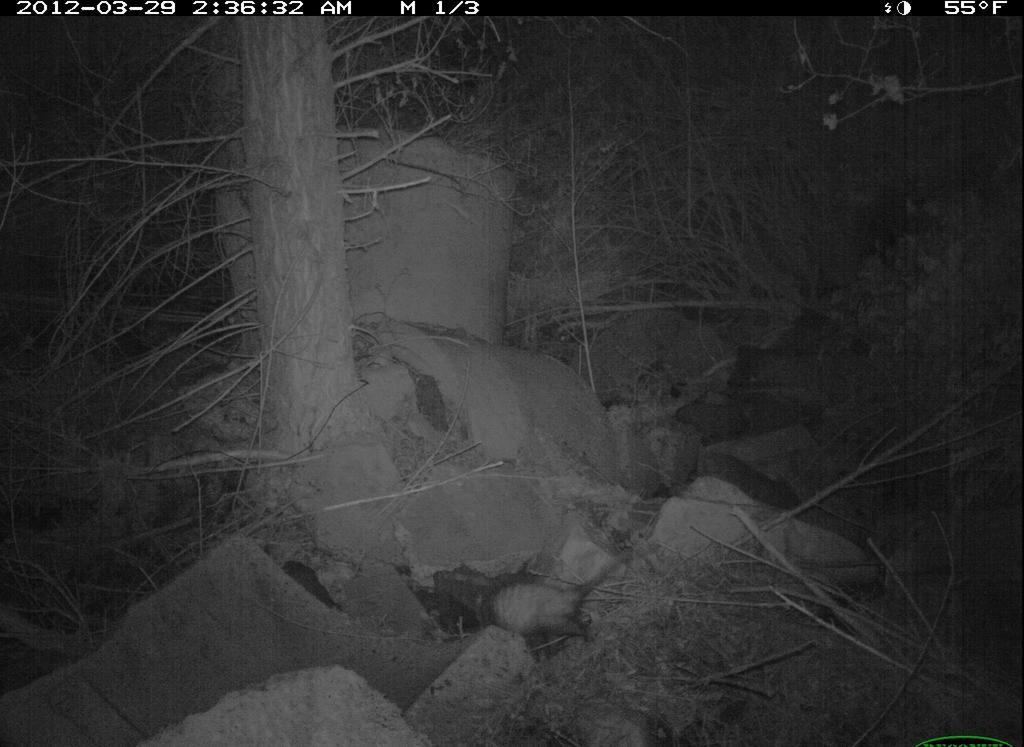opossum: (427, 534, 642, 656)
